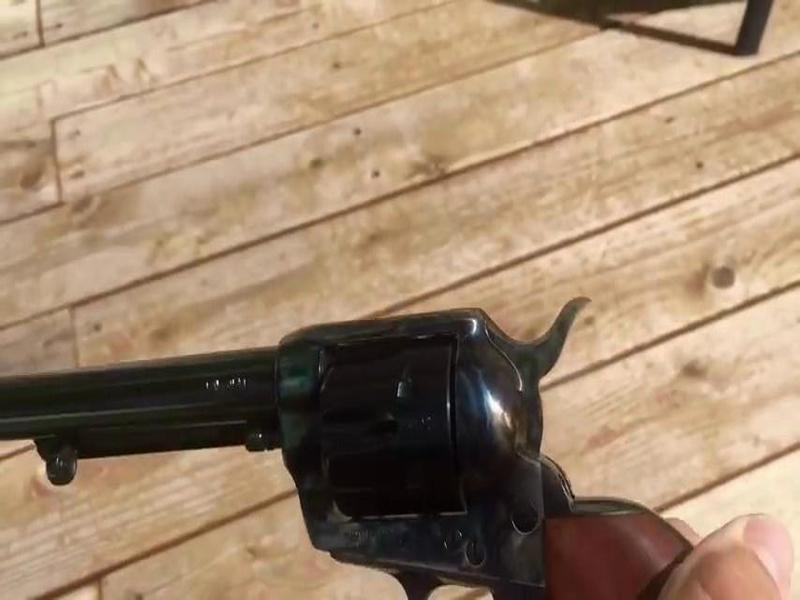Revolver: (11, 300, 678, 582)
